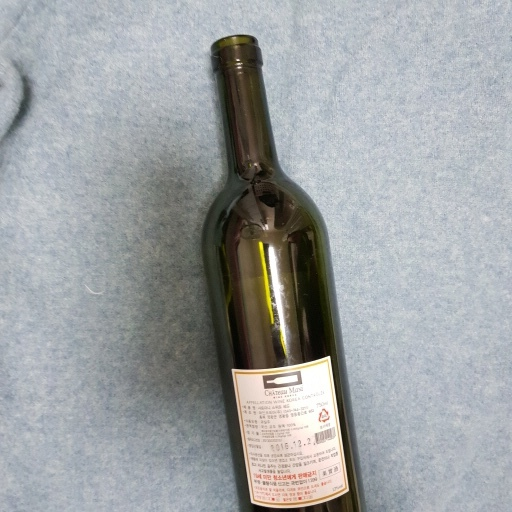Glass_2: (198, 32, 364, 512)
